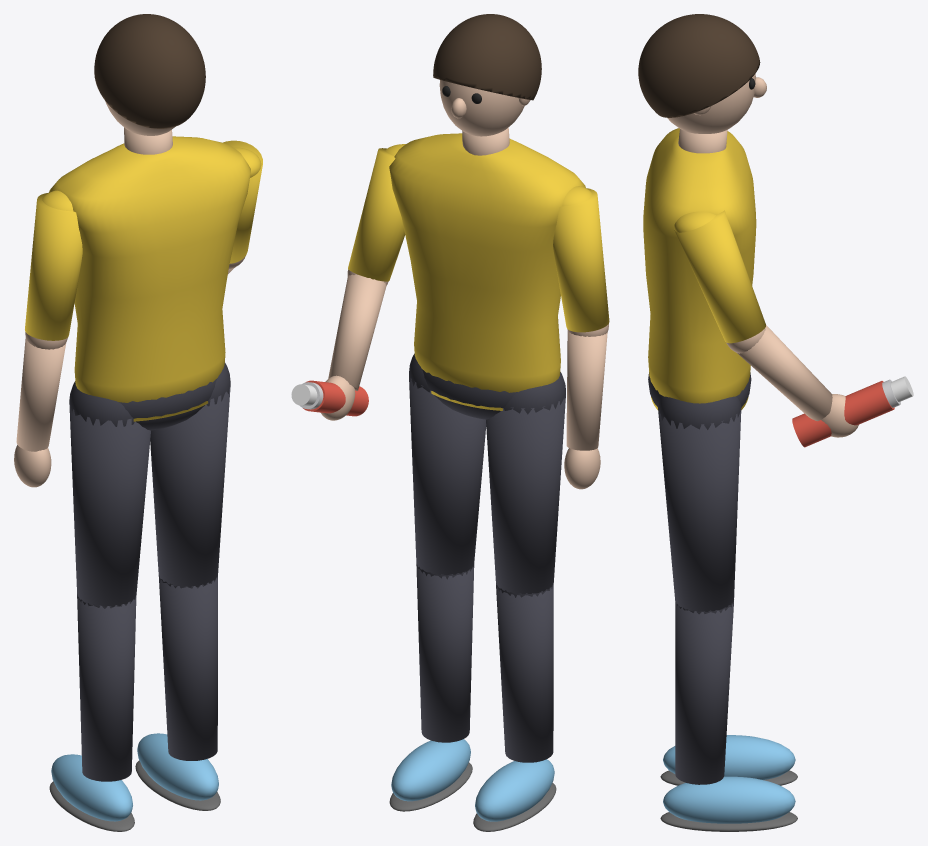
Rendered from human_5.glb.
The picture shows the model from 3 angles, left to right: view 1: azimuth 30°, elevation 25°; view 2: azimuth 150°, elevation 25°; view 3: azimuth 270°, elevation 25°; orthographic projection. The views are drawn at different scales.
Visible parts, largest first — view 1: Body, Leg_L, Leg_R, Arm_L, Arm_R; view 2: Body, Leg_L, Leg_R, Arm_L, Arm_R, Spray_Can; view 3: Body, Leg_R, Arm_R, Leg_L, Spray_Can.
Part boxes in pixels (<box>): Body: <box>49,14,250,430</box>; Leg_L: <box>49,381,150,831</box>; Leg_R: <box>135,363,230,810</box>; Arm_L: <box>14,190,82,487</box>; Arm_R: <box>223,140,262,273</box>; Body: <box>389,14,585,419</box>; Leg_L: <box>473,372,565,831</box>; Leg_R: <box>389,353,486,811</box>; Arm_L: <box>553,186,609,489</box>; Arm_R: <box>321,144,405,420</box>; Spray_Can: <box>291,380,368,416</box>; Body: <box>638,14,766,409</box>; Leg_R: <box>658,396,797,831</box>; Arm_R: <box>674,210,858,437</box>; Leg_L: <box>660,735,797,785</box>; Spray_Can: <box>792,376,913,447</box>.
Bounding box in the file's own units: 0.5595 × 1.76 × 0.56.
